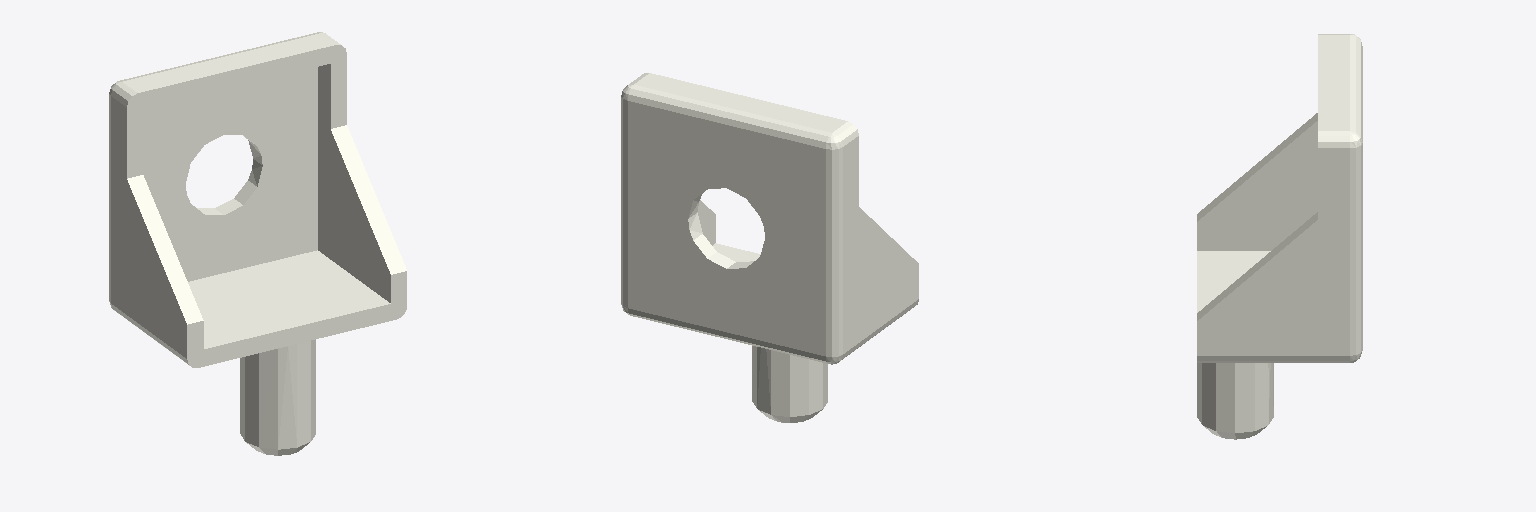
3 views of the same model, side by side, from view 1: azimuth 30°, elevation 25°; view 2: azimuth 150°, elevation 25°; view 3: azimuth 270°, elevation 25° (orthographic).
Visible parts, largest first — view 1: Ikea_Stefan_Bracket; view 2: Ikea_Stefan_Bracket; view 3: Ikea_Stefan_Bracket.
Boxes of the visible parts, x1,y1,x2,y2 form: Ikea_Stefan_Bracket: [109, 32, 406, 455]; Ikea_Stefan_Bracket: [621, 73, 918, 422]; Ikea_Stefan_Bracket: [1197, 34, 1362, 439].
Size of the model in its own units: 0.02 by 0.03 by 0.013.
1 materials, 1 textured.